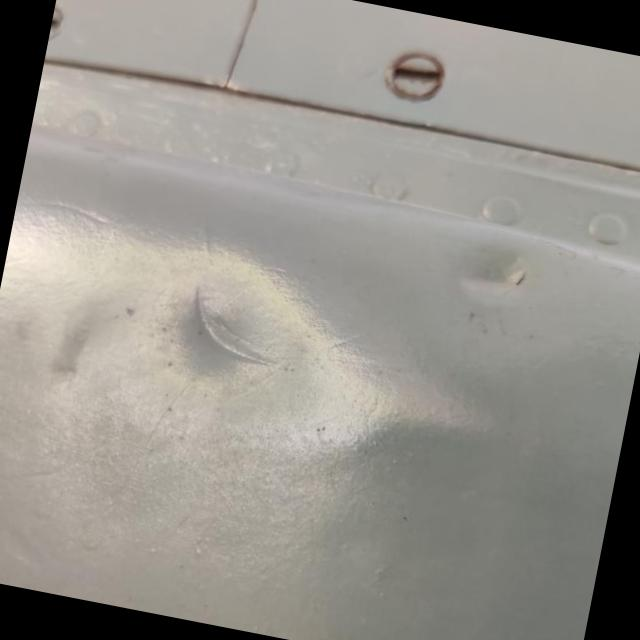Dent: (182, 254, 330, 399), (434, 231, 560, 336)
